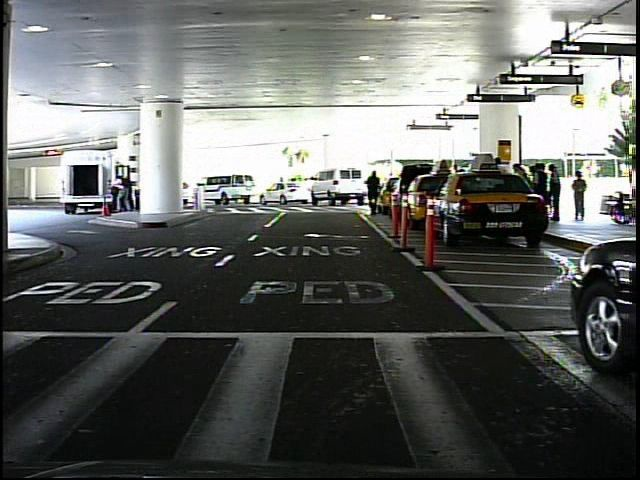person: (364, 168, 386, 218), (571, 169, 590, 226), (110, 174, 125, 215)
